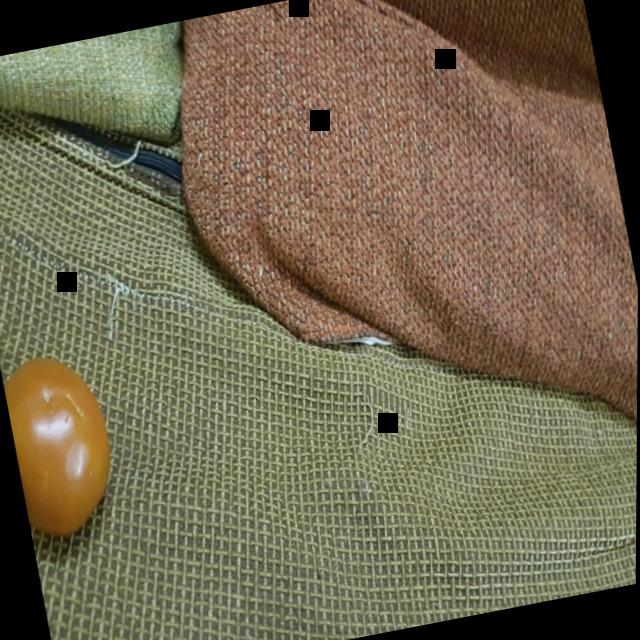tomato: (0, 341, 135, 547)
